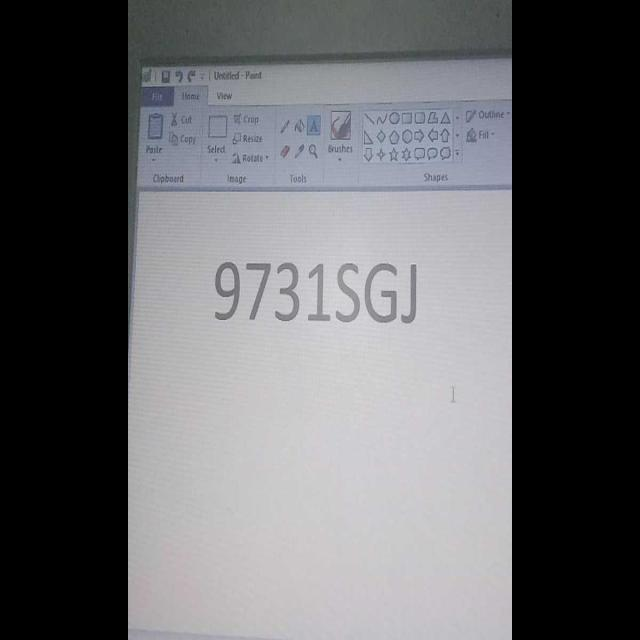license_plate: (210, 253, 426, 331)
